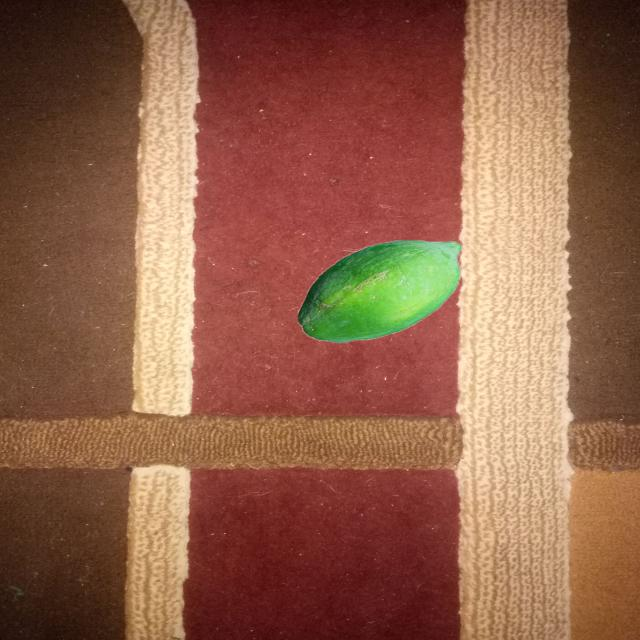Pepaya unrippen: (297, 238, 463, 338)
